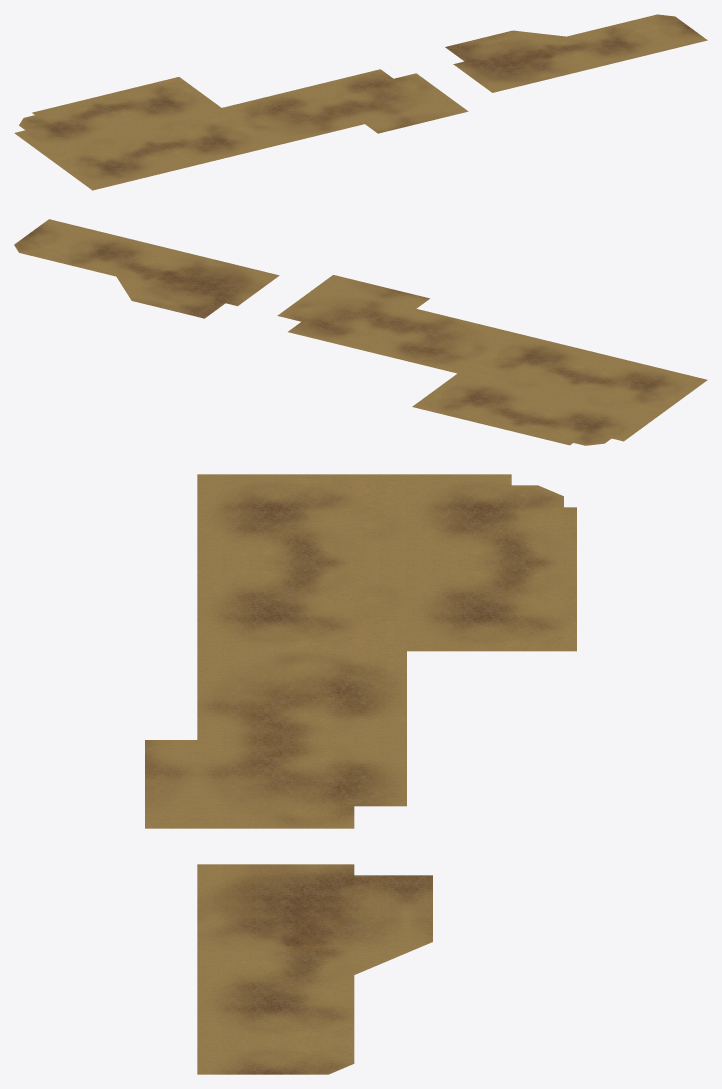
Rendered from Redrock_Canyon_1F_all.FBX.
The picture shows the model from 3 angles, top to bottom: view 1: azimuth 30°, elevation 25°; view 2: azimuth 150°, elevation 25°; view 3: azimuth 270°, elevation 25°; orthographic projection. The views are drawn at different scales.
Visible parts, largest first — view 1: Plane013, Plane014, Plane018; view 2: Plane013, Plane014, Plane018; view 3: Plane013, Plane014, Plane018.
Part boxes in pixels (x1,y1,x2,y2): Plane013: (14,77,273,190); Plane014: (222,69,468,146); Plane018: (445,14,707,92); Plane013: (412,332,707,445); Plane014: (277,275,513,373); Plane018: (14,219,279,318); Plane013: (197,474,576,651); Plane014: (145,651,406,828); Plane018: (197,864,432,1074).
Bounding box in the file's own units: 108 × 0.000135 × 33.
